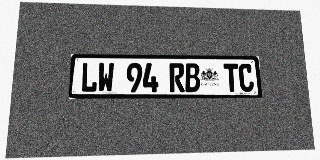4: (143, 63, 158, 92)
9: (126, 63, 142, 92)
B: (185, 63, 200, 92)
C: (238, 64, 254, 92)
L: (80, 62, 98, 92)
R: (169, 63, 185, 92)
T: (223, 64, 239, 92)
W: (97, 62, 114, 92)
